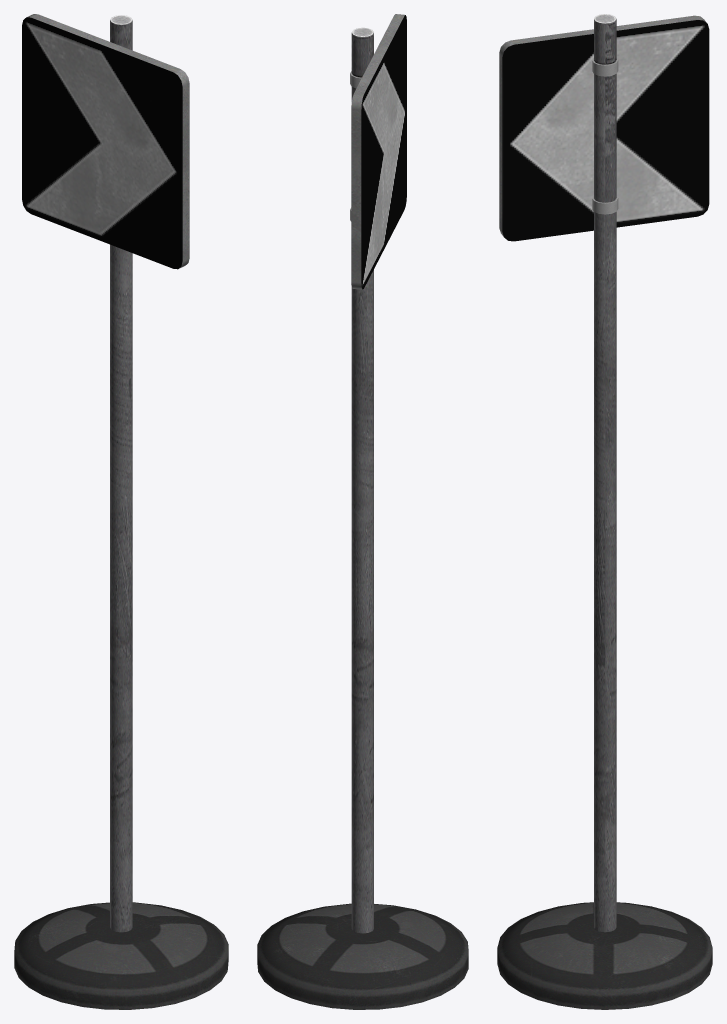
Rendered from PW_Road_Sign_14.fbx.
The picture shows the model from 3 angles, left to right: view 1: azimuth 30°, elevation 25°; view 2: azimuth 150°, elevation 25°; view 3: azimuth 270°, elevation 25°; orthographic projection.
Parts seen in each view (by area): view 1: PW_Road_Sign_14_LOD0; view 2: PW_Road_Sign_14_LOD0; view 3: PW_Road_Sign_14_LOD0.
Part boxes in pixels (<box>): PW_Road_Sign_14_LOD0: <box>14,14,228,1009</box>; PW_Road_Sign_14_LOD0: <box>257,14,468,1009</box>; PW_Road_Sign_14_LOD0: <box>497,14,712,1009</box>.
Size of what is drawn, in the model's own units: 45.86 by 223 by 45.86.
